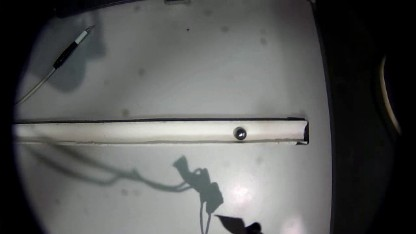gangzhu: (232, 126, 247, 141)
